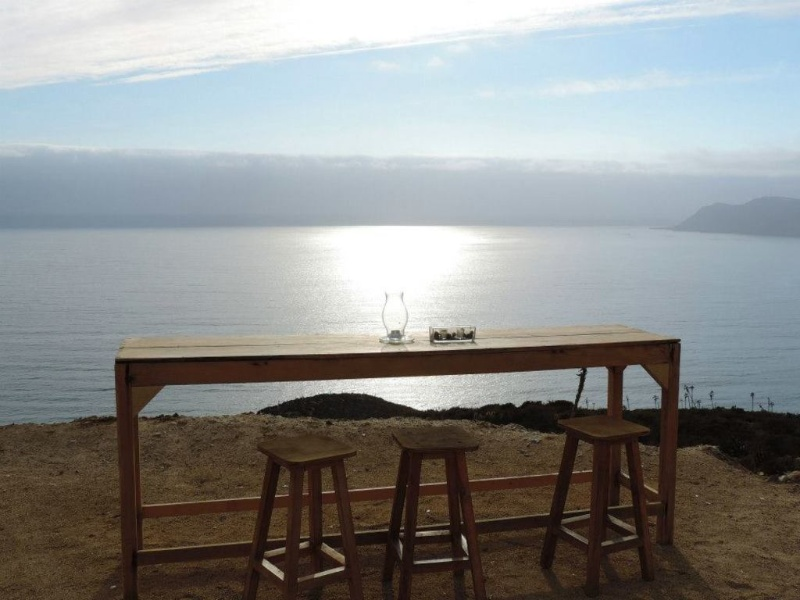dining table: (105, 318, 688, 557)
